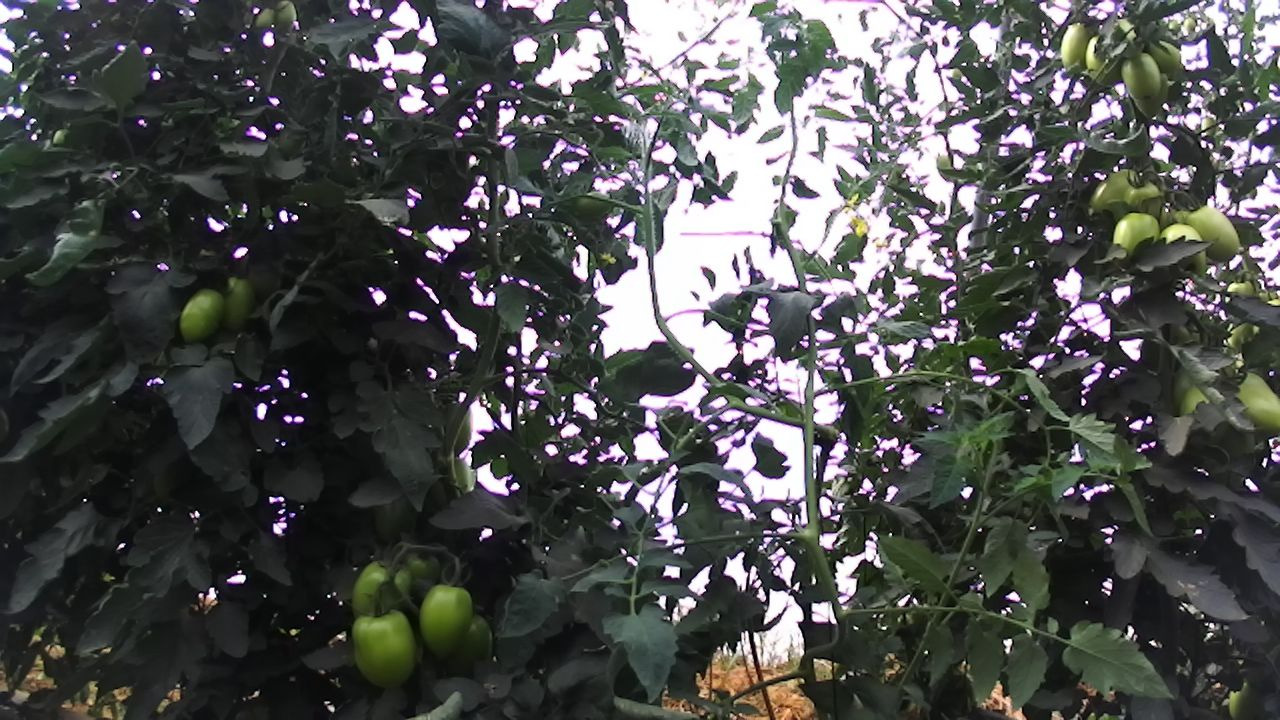tomato: (351, 608, 425, 694), (345, 554, 415, 624), (417, 579, 476, 658), (1227, 365, 1280, 444), (1185, 204, 1242, 264), (177, 284, 227, 347), (1119, 47, 1165, 103), (1110, 209, 1162, 256), (1059, 15, 1096, 76), (221, 272, 257, 330)
